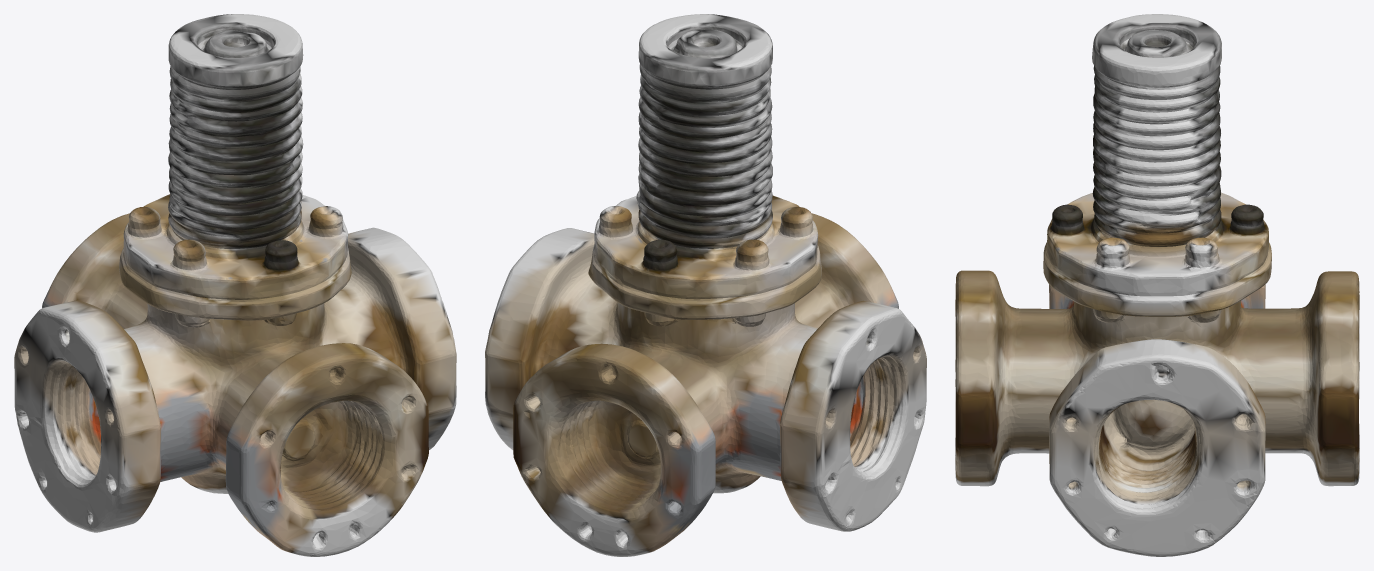
The model's file is machine.glb.
3 views of the same model, side by side, from view 1: azimuth 30°, elevation 25°; view 2: azimuth 150°, elevation 25°; view 3: azimuth 270°, elevation 25° (orthographic).
Visible parts, largest first — view 1: tmp2jfrtzov.ply; view 2: tmp2jfrtzov.ply; view 3: tmp2jfrtzov.ply.
Boxes of the visible parts, box(x1,y1,x2,y2) form: tmp2jfrtzov.ply: box(14, 14, 456, 556); tmp2jfrtzov.ply: box(485, 14, 926, 556); tmp2jfrtzov.ply: box(955, 14, 1359, 556).
Size of the model in its own units: 1.59 by 1.99 by 1.67.
